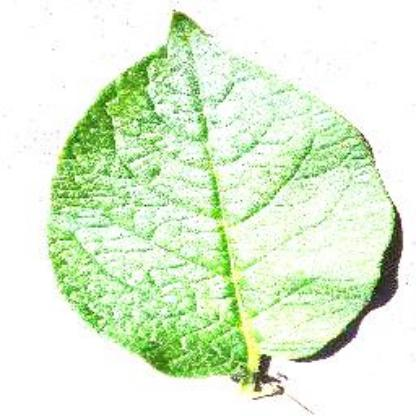Healthy-plant: (40, 11, 394, 393)
